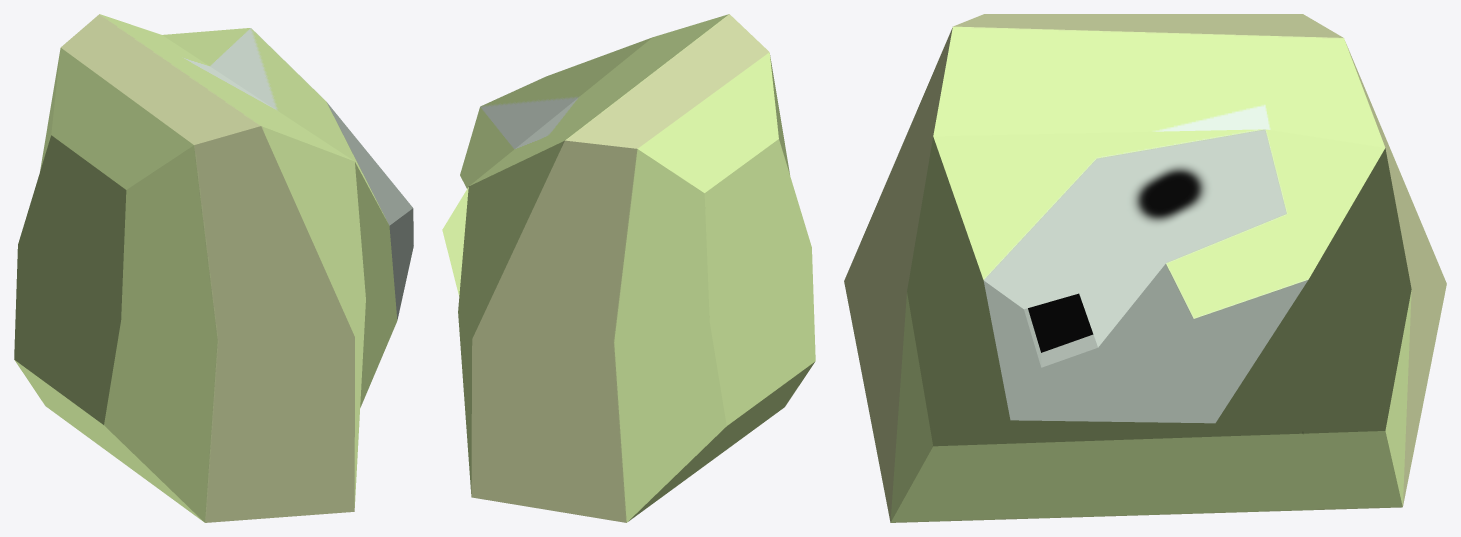
Rendered from fossil4.glb.
The picture shows the model from 3 angles, left to right: view 1: azimuth 30°, elevation 25°; view 2: azimuth 150°, elevation 25°; view 3: azimuth 270°, elevation 25°; orthographic projection. The views are drawn at different scales.
Parts seen in each view (by area): view 1: Plane; view 2: Plane; view 3: Plane.
Boxes of the visible parts, box(x1,y1,x2,y2) form: Plane: box(14, 14, 413, 522); Plane: box(442, 14, 815, 522); Plane: box(844, 14, 1446, 522).
Bounding box in the file's own units: 1.86 × 2.18 × 2.61.
Materials: 1 (1 with a texture image).
